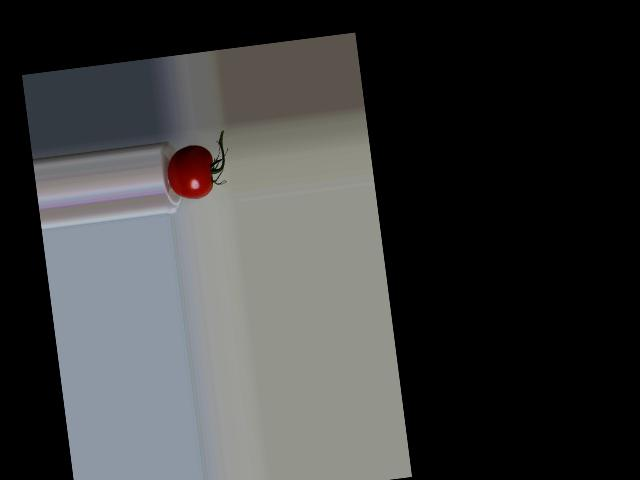tomato: (164, 142, 217, 201)
